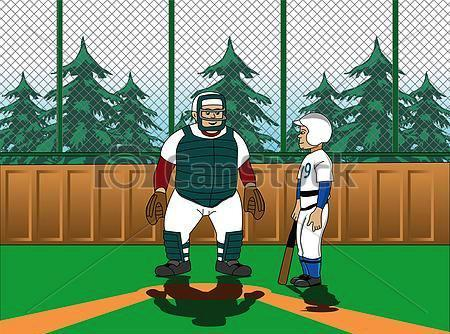person: (153, 90, 268, 278), (289, 109, 335, 288)
